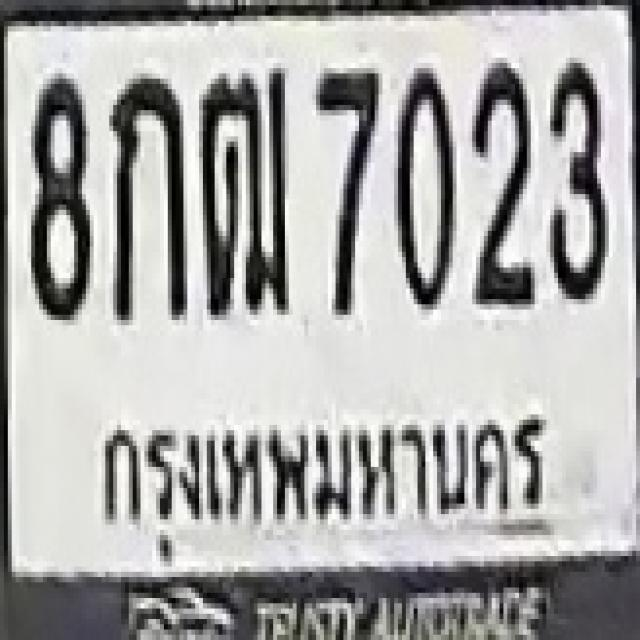-: (197, 68, 291, 315), (110, 73, 184, 320)
0: (394, 63, 453, 309)
2: (470, 58, 533, 304)
3: (546, 58, 605, 299)
7: (312, 68, 379, 315)
8: (27, 73, 90, 315)
BKK: (88, 371, 558, 565)
